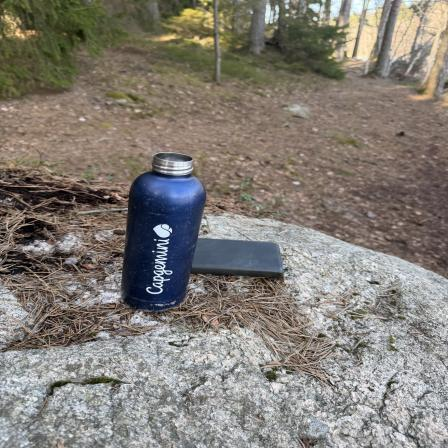blue_bottle: (122, 150, 206, 309)
phone: (154, 234, 291, 279)
